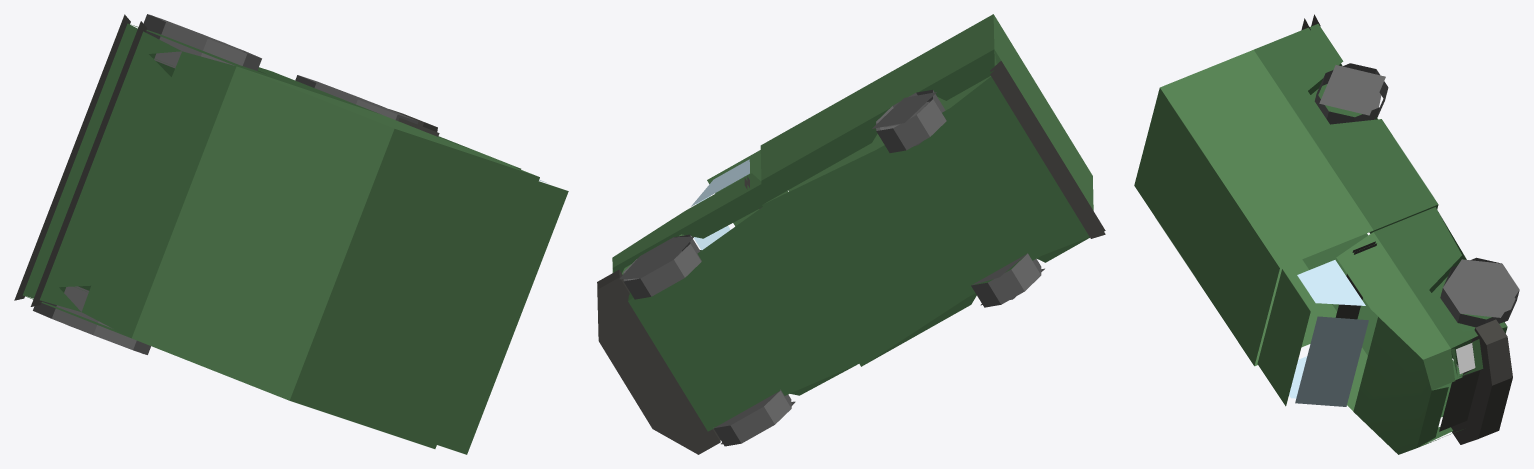
File: Truck_2-0.5.gltf
3 renders of one model, left to right at view 1: azimuth 30°, elevation 25°; view 2: azimuth 150°, elevation 25°; view 3: azimuth 270°, elevation 25°, orthographic. The views are drawn at different scales.
Parts seen in each view (by area): view 1: Truck_2; view 2: Truck_2; view 3: Truck_2.
Part boxes in pixels (<box>): Truck_2: <box>14,14,568,454</box>; Truck_2: <box>597,14,1105,454</box>; Truck_2: <box>1134,14,1519,454</box>.
Size of the model in its own units: 0.0757 by 0.0653 by 0.068.
1 material, 1 textured.
